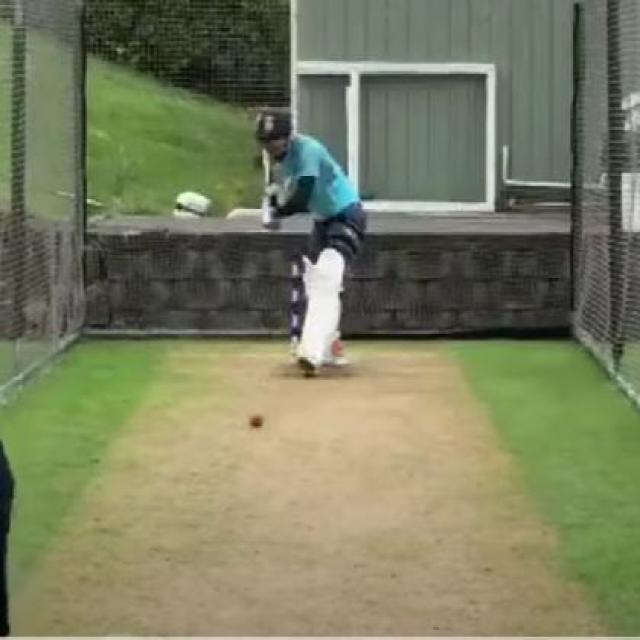ball: (250, 410, 266, 435)
